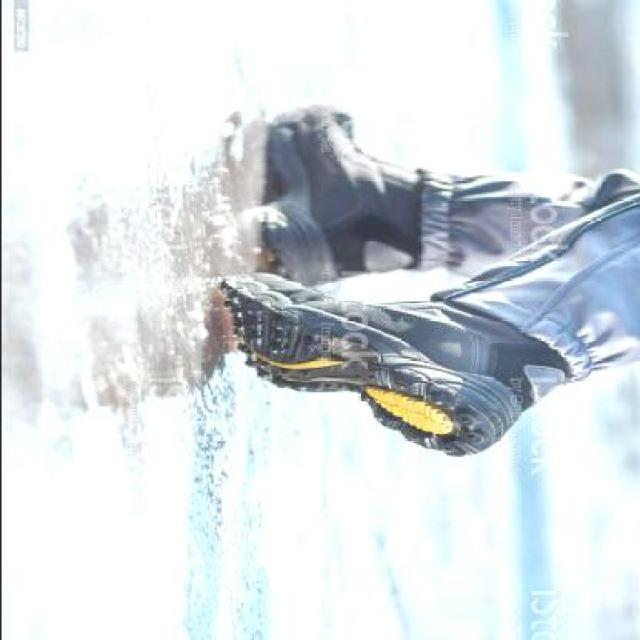shoes: (222, 278, 560, 445), (266, 108, 439, 284)
